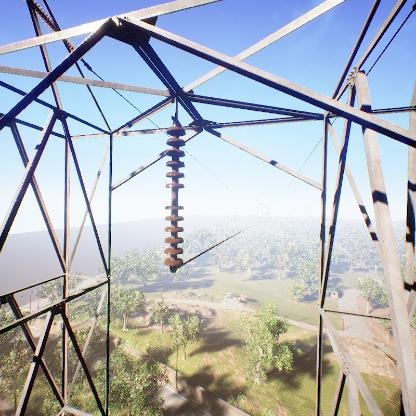insulator: (162, 125, 188, 273)
